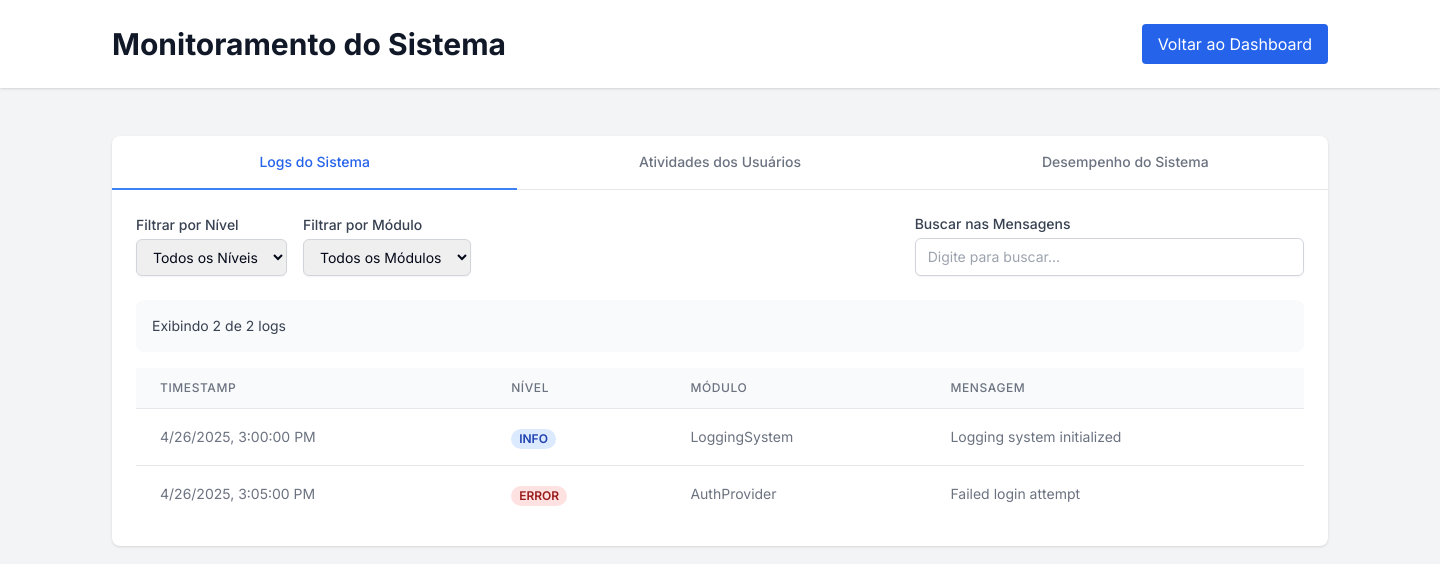
Test: MonitoringDashboard › permite filtrar logs por nível
The width and height of the screenshot is (1440, 564).
// Filtrar por nível ERROR
Select "ERROR" in the dropdown labelled "Filtrar por Nível" at (212, 257), box [136,238,287,276]
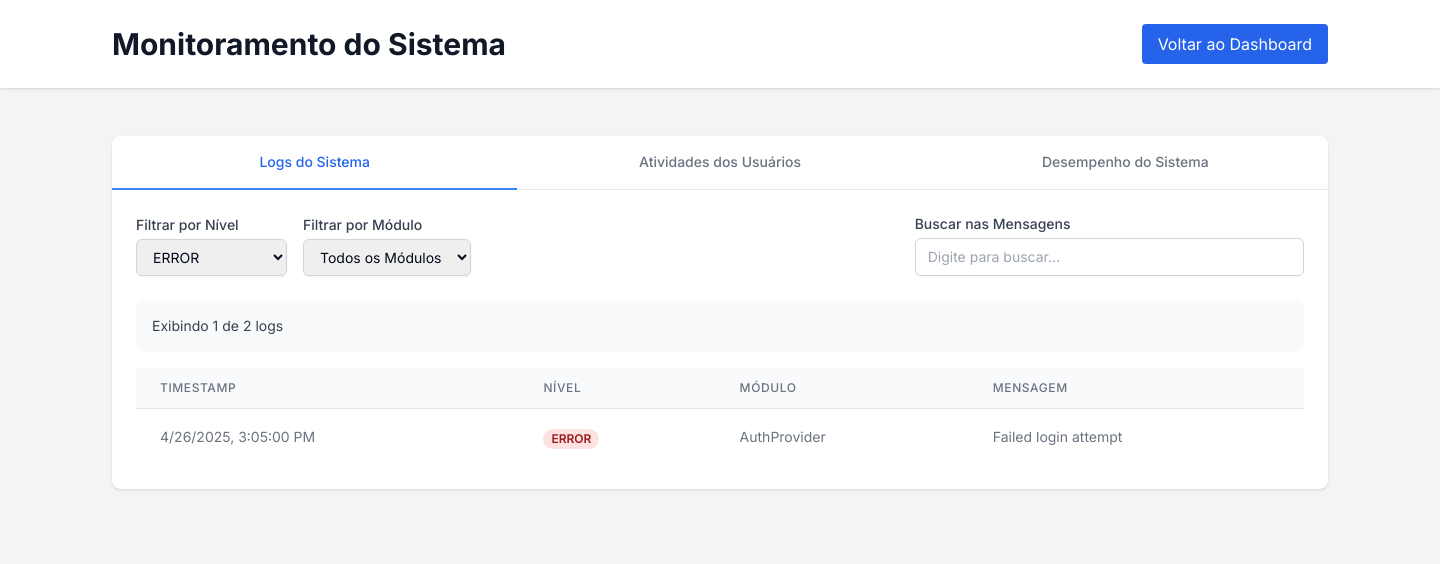
Result: the text "Logging system initialized" is gone
Result: the text "Failed login attempt" is shown at [969,408,1304,465]
